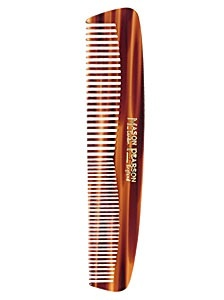grozi_17: (86, 7, 144, 291)
